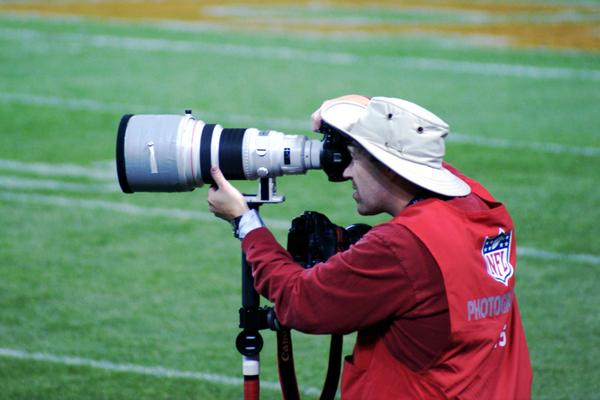person: (207, 93, 533, 398)
